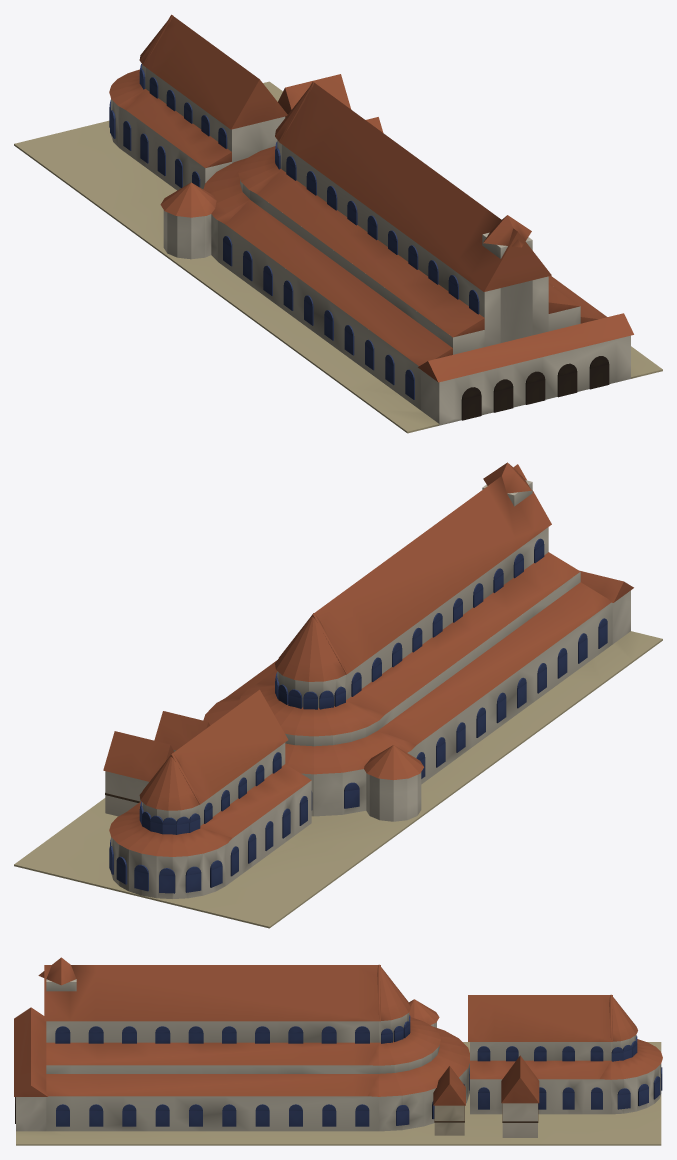
Rendered from saint-etienne.glb.
3 renders of one model, top to bottom at view 1: azimuth 30°, elevation 25°; view 2: azimuth 150°, elevation 25°; view 3: azimuth 270°, elevation 25°, orthographic. The views are drawn at different scales.
Visible parts, largest first — view 1: p1_roofs, p0_walls, p2_old church; view 2: p1_roofs, p0_walls, p2_old church; view 3: p1_roofs, p0_walls, p2_old church.
Part boxes in pixels (x1=…): p1_roofs: x1=203, y1=81, x2=633, y2=425; p0_walls: x1=14, y1=81, x2=662, y2=433; p2_old church: x1=109, y1=14, x2=383, y2=259; p1_roofs: x1=203, y1=462, x2=633, y2=774; p0_walls: x1=14, y1=527, x2=662, y2=928; p2_old church: x1=103, y1=689, x2=423, y2=898; p1_roofs: x1=14, y1=957, x2=469, y2=1131; p0_walls: x1=16, y1=1012, x2=661, y2=1145; p2_old church: x1=409, y1=994, x2=662, y2=1137.
Size of the model in its own units: 48 by 30 by 129.
